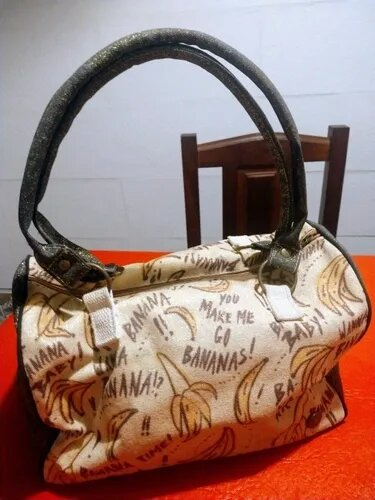cartera: (5, 22, 374, 500)
lona: (8, 216, 371, 496)
